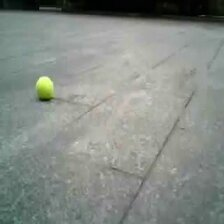tennis: (35, 76, 53, 97)
